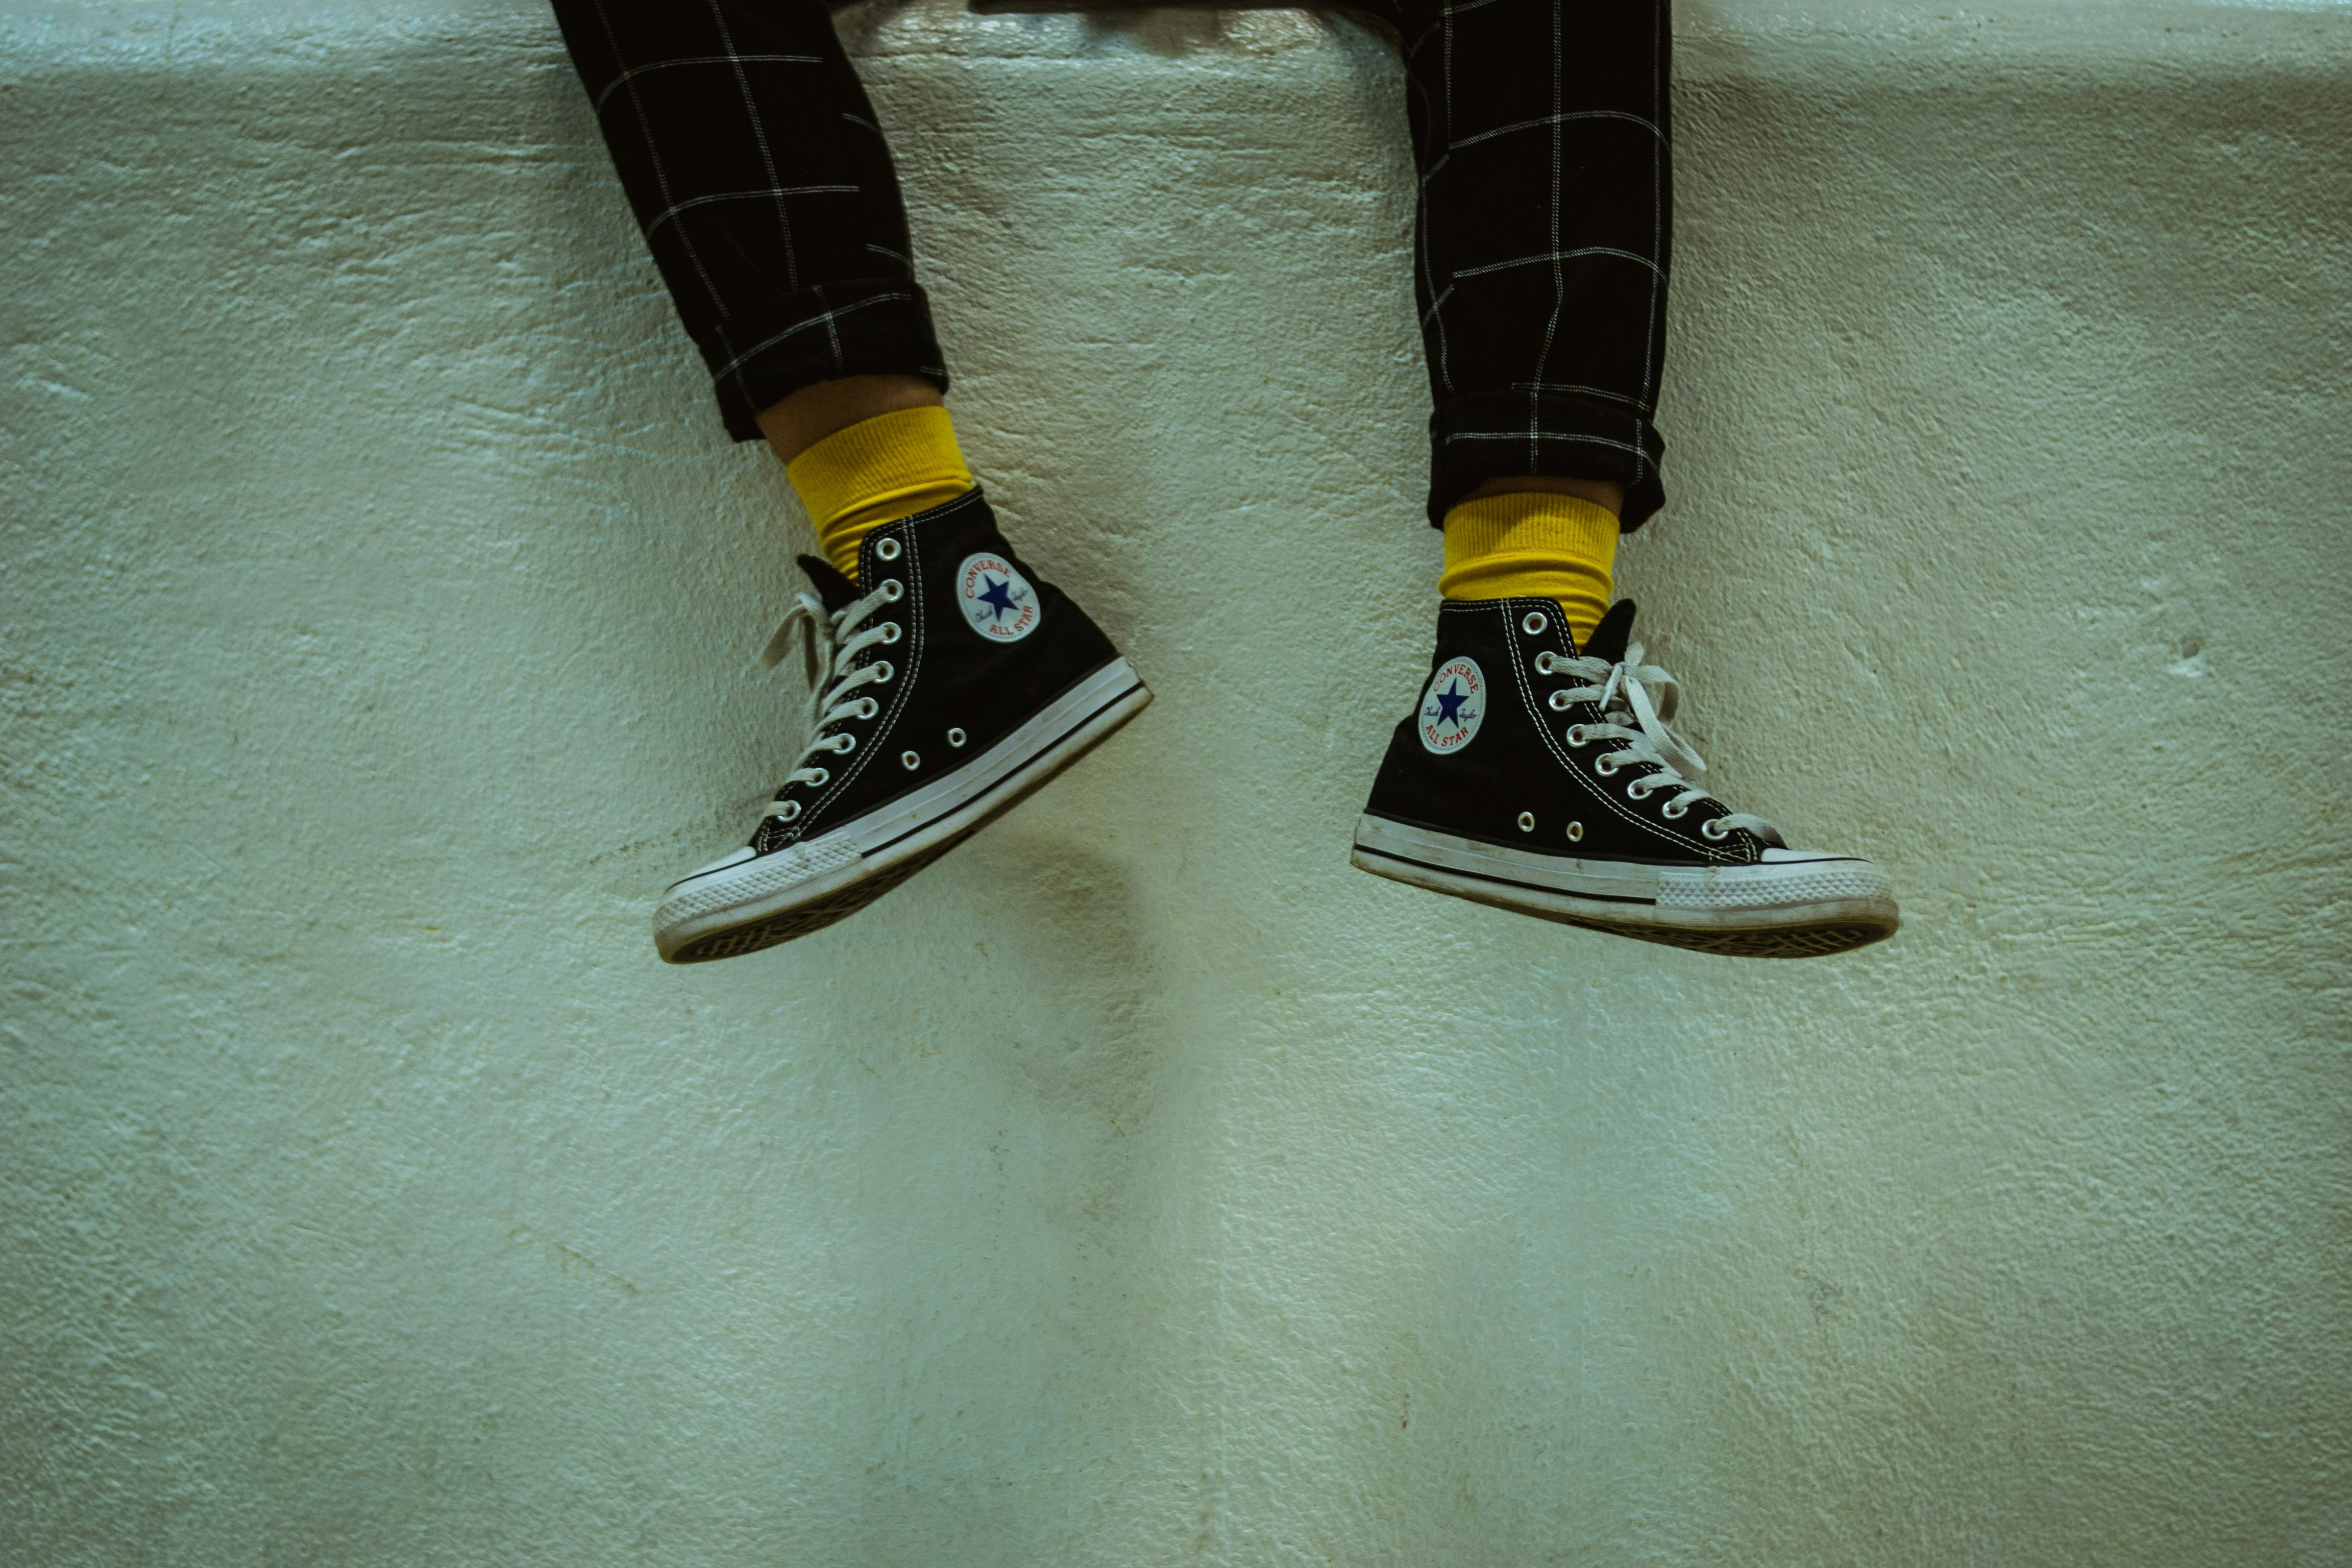Footwear: (1333, 562, 1960, 971), (618, 492, 1160, 961)
